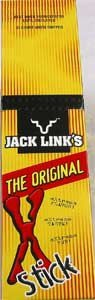grozi_100: (0, 0, 95, 299)
